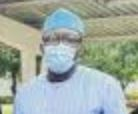with_facemask: (41, 44, 79, 79)
